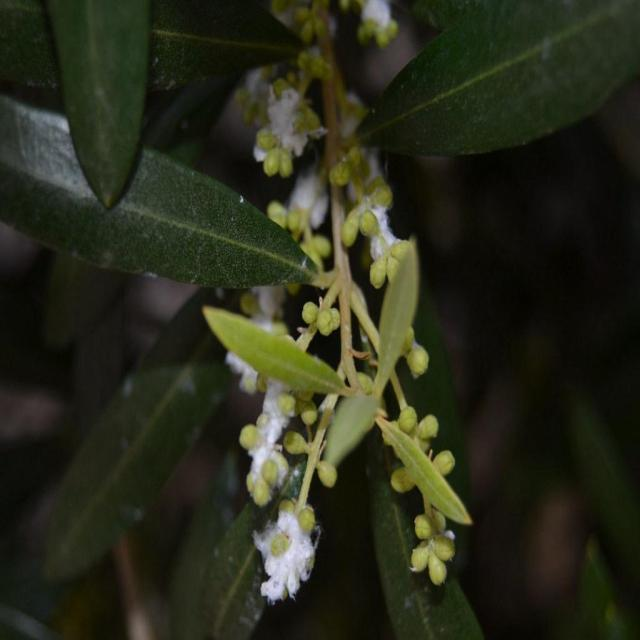Psyllid: (332, 147, 406, 282), (246, 68, 322, 188), (254, 500, 320, 602), (240, 383, 294, 507)
